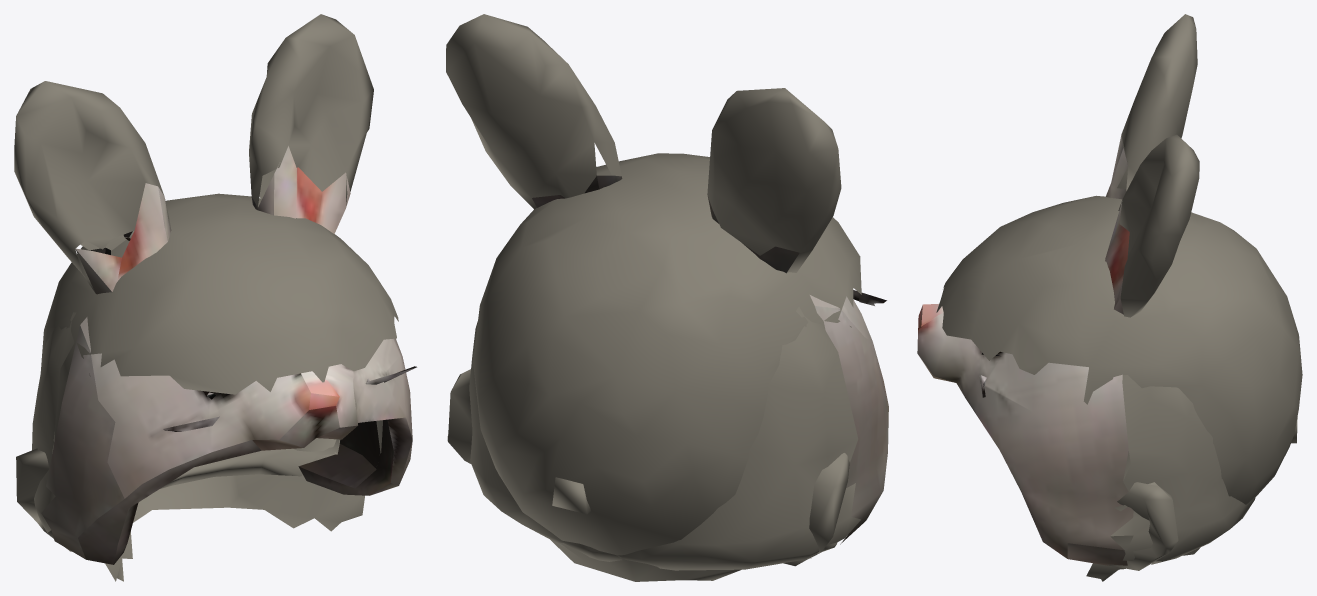
The model's file is rabbit.glb.
3 views of the same model, side by side, from view 1: azimuth 30°, elevation 25°; view 2: azimuth 150°, elevation 25°; view 3: azimuth 270°, elevation 25° (orthographic). The views are drawn at different scales.
Parts seen in each view (by area): view 1: geometry_0, HoodAnatomicalLining; view 2: HoodAnatomicalLining, geometry_0; view 3: HoodAnatomicalLining, geometry_0.
Boxes of the visible parts, x1,y1,x2,y2 form: geometry_0: (14,14,416,564); HoodAnatomicalLining: (16,193,398,581); HoodAnatomicalLining: (447,153,861,581); geometry_0: (446,14,888,570); HoodAnatomicalLining: (936,195,1302,581); geometry_0: (917,14,1297,565).
Size of the model in its own units: 0.4665 by 0.5946 by 0.4558.
Materials: 2 (1 with a texture image).
